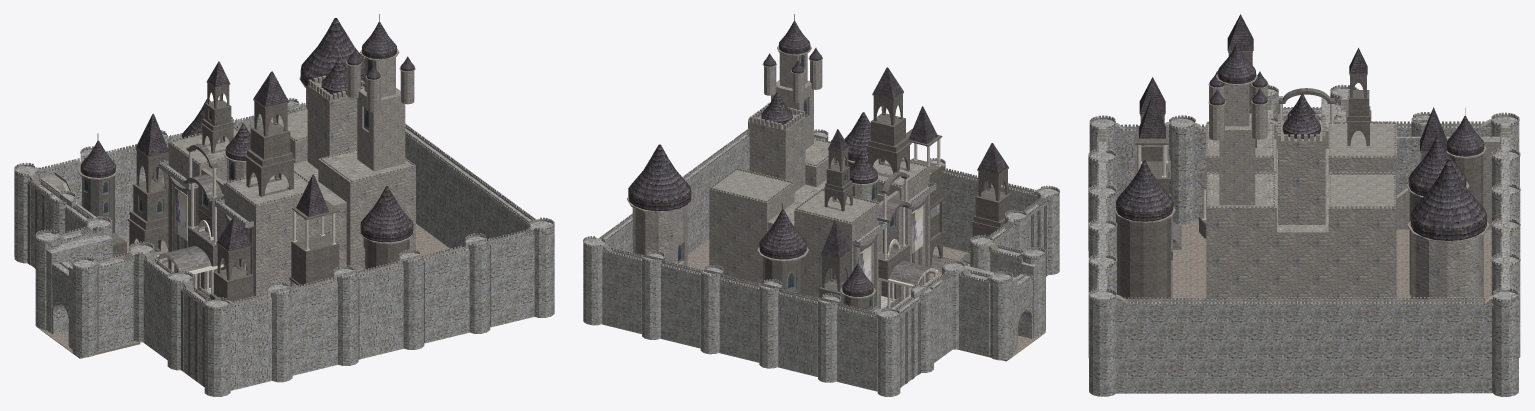
The model's file is scaled.obj.
3 views of the same model, side by side, from view 1: azimuth 30°, elevation 25°; view 2: azimuth 150°, elevation 25°; view 3: azimuth 270°, elevation 25° (orthographic). The views are drawn at different scales.
Visible parts, largest first — view 1: dx_dx_user_defined01; view 2: dx_dx_user_defined01; view 3: dx_dx_user_defined01.
Boxes of the visible parts, <box> form: dx_dx_user_defined01: <box>14,14,554,396</box>; dx_dx_user_defined01: <box>583,14,1059,396</box>; dx_dx_user_defined01: <box>1088,14,1520,396</box>.
Bounding box in the file's own units: 353 × 235 × 300.
Materials: 16 (16 with a texture image).
